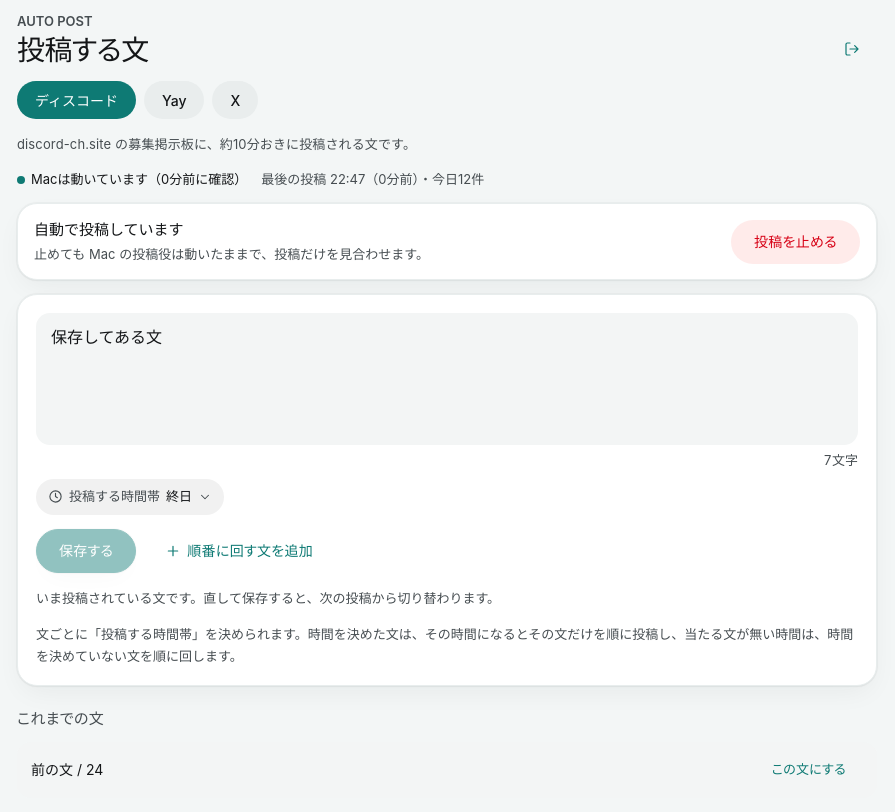
Scenario: AutoPostView › Yay は文が1つだけなので、追加ボタンを出さない
Expected: the text box holds "保存してある文", x1=36 y1=313 x2=858 y2=445
Expected: the button "順番に回す文を追加" is shown, x1=144 y1=529 x2=336 y2=573
Click the tab "Yay" at (174, 100), box x1=144 y1=81 x2=204 y2=119
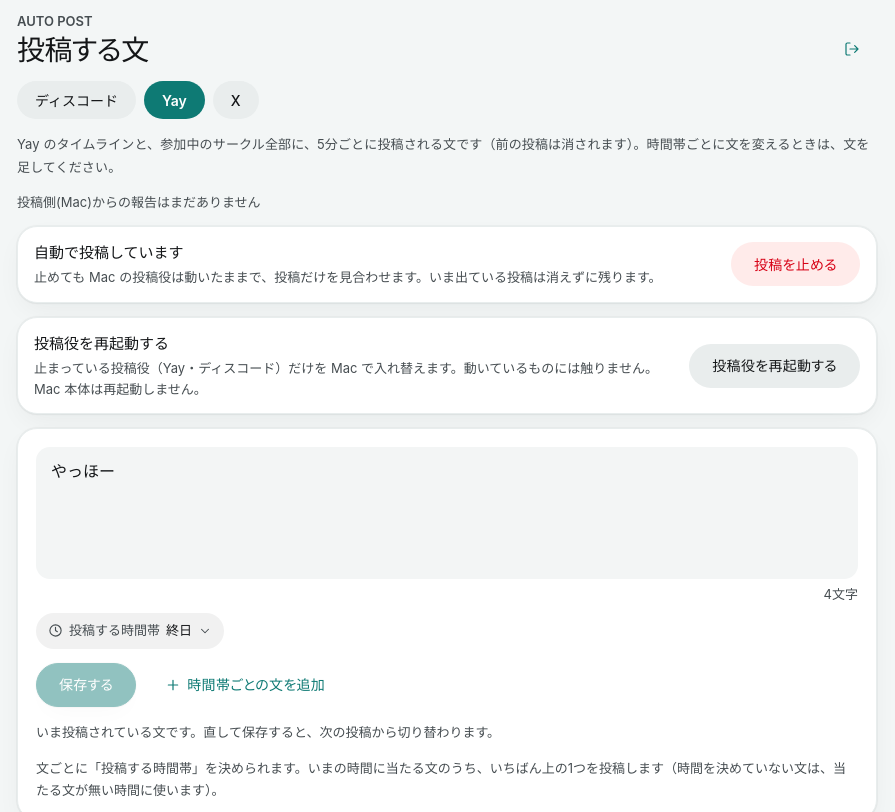
Expected: the button "順番に回す文を追加" is gone
